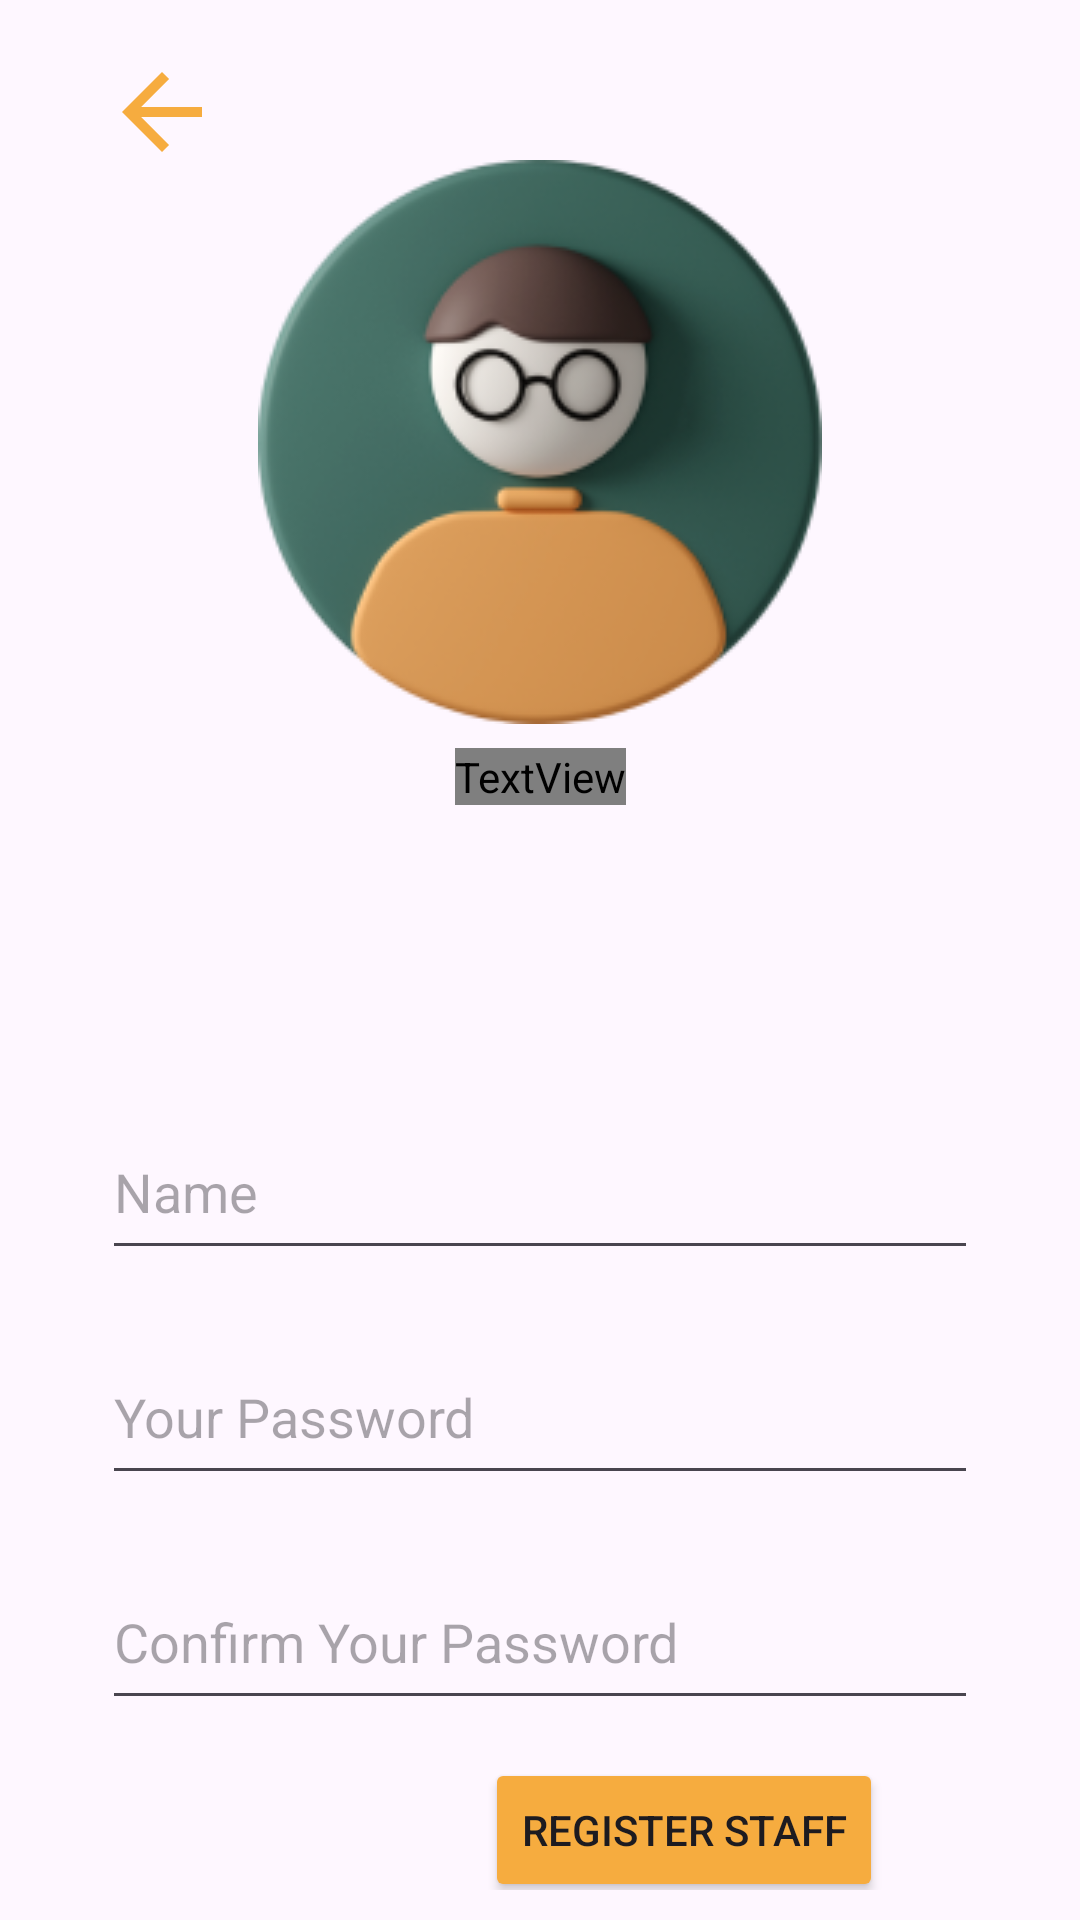

Where to tap for icons on this 1080px x 1920px app screen, as (x,y):
back: (162,112)
